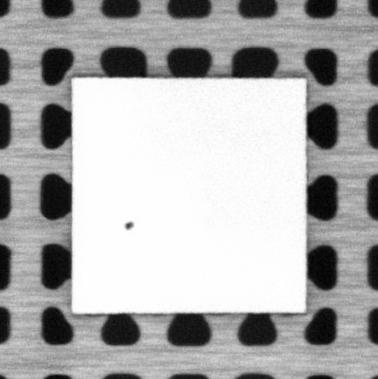DIE_INK: (122, 219, 135, 231)
